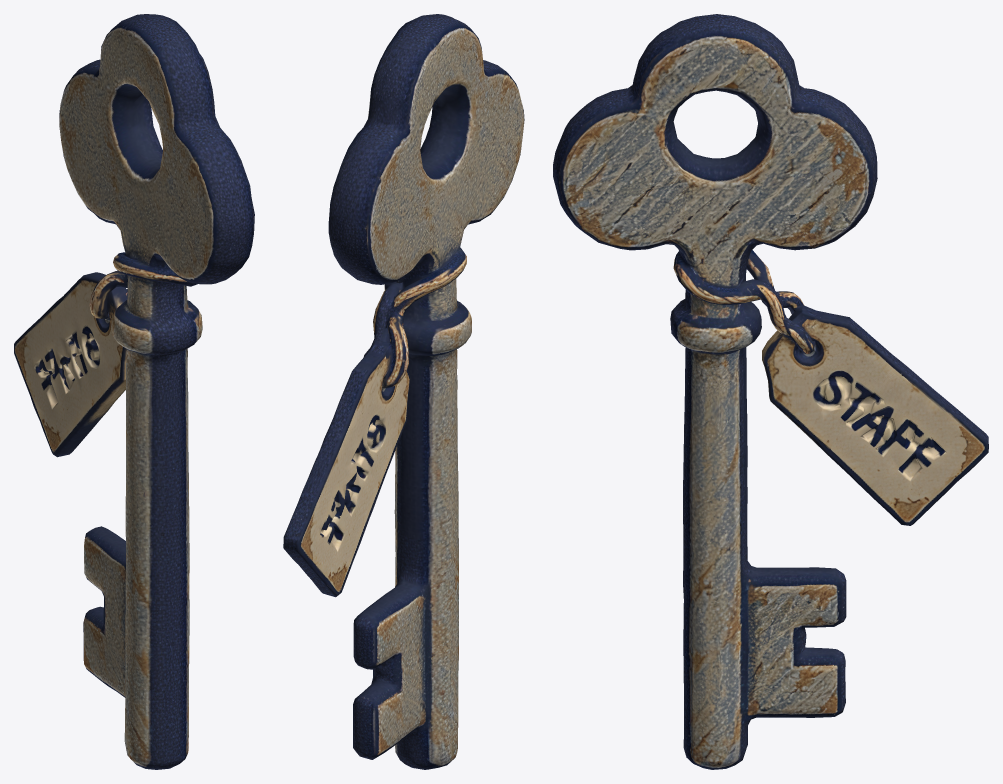
The model's file is KeyStaff.fbx.
3 views of the same model, side by side, from view 1: azimuth 30°, elevation 25°; view 2: azimuth 150°, elevation 25°; view 3: azimuth 270°, elevation 25° (orthographic).
Visible parts, largest first — view 1: tripo_node_4d5aa300-0acd-4414-bd5b-746ff099641c; view 2: tripo_node_4d5aa300-0acd-4414-bd5b-746ff099641c; view 3: tripo_node_4d5aa300-0acd-4414-bd5b-746ff099641c.
Boxes of the visible parts, box(x1,y1,x2,y2) form: tripo_node_4d5aa300-0acd-4414-bd5b-746ff099641c: box(14, 14, 254, 769); tripo_node_4d5aa300-0acd-4414-bd5b-746ff099641c: box(283, 14, 524, 769); tripo_node_4d5aa300-0acd-4414-bd5b-746ff099641c: box(553, 14, 988, 769).
Size of the model in its own units: 11.08 by 100 by 52.84.
1 material, 1 textured.
